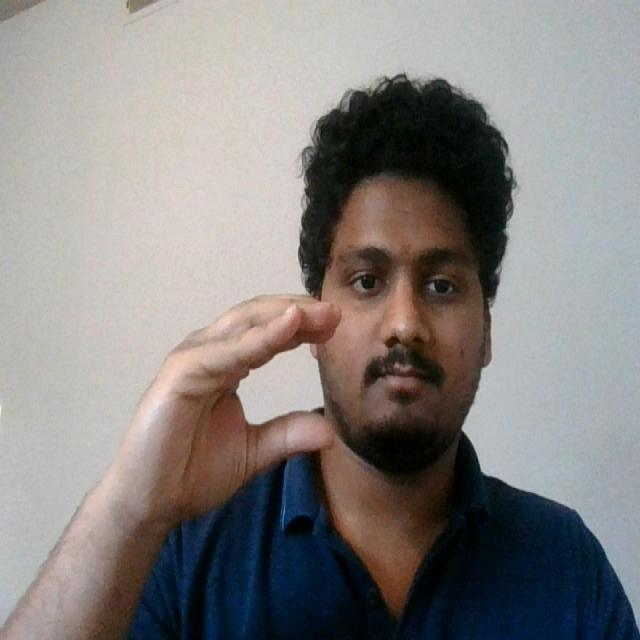No: (106, 283, 346, 546)
